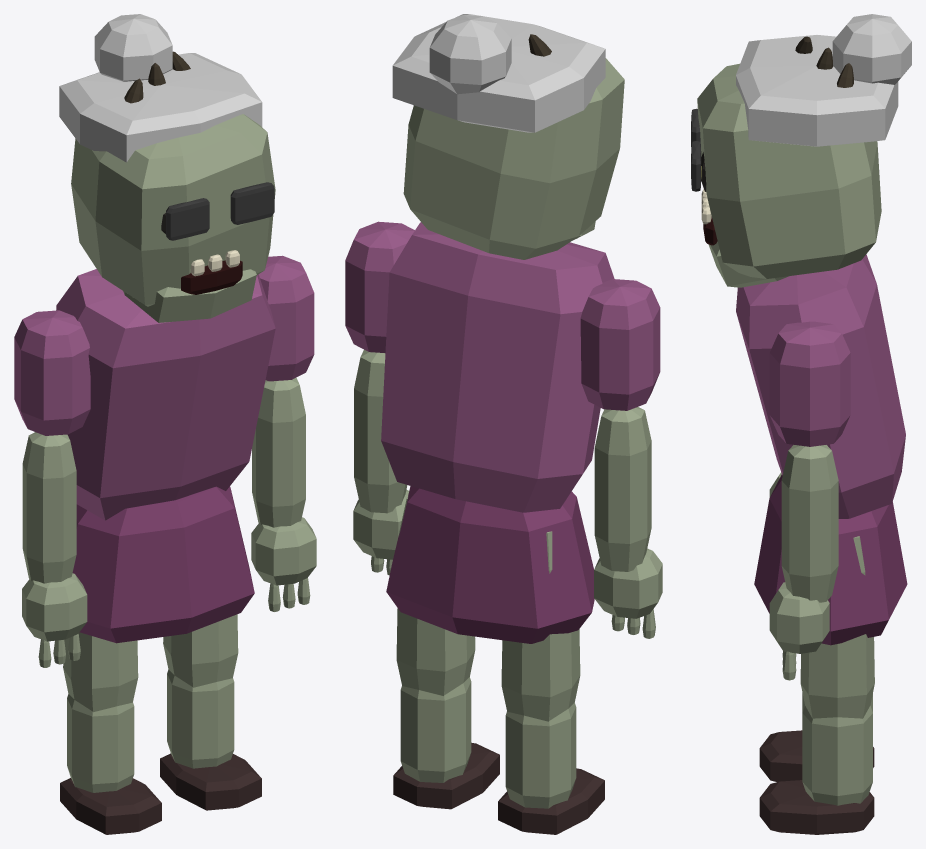
File: mon-walker-3.glb
3 views of the same model, side by side, from view 1: azimuth 30°, elevation 25°; view 2: azimuth 150°, elevation 25°; view 3: azimuth 270°, elevation 25° (orthographic). The views are drawn at different scales.
Parts seen in each view (by area): view 1: torso, head, arm-right, arm-left, leg-right, leg-left; view 2: torso, head, arm-right, leg-right, leg-left, arm-left; view 3: head, torso, arm-left, leg-left, leg-right.
Part boxes in pixels (<box>): torso: <box>56,269,275,643</box>; head: <box>59,14,275,322</box>; arm-right: <box>14,310,90,667</box>; arm-left: <box>251,255,316,611</box>; leg-right: <box>60,632,161,834</box>; leg-left: <box>160,614,261,810</box>; torso: <box>381,222,614,643</box>; head: <box>392,14,624,259</box>; arm-right: <box>580,279,662,638</box>; leg-right: <box>498,531,604,834</box>; leg-left: <box>393,496,499,809</box>; arm-left: <box>345,221,414,575</box>; head: <box>691,14,911,287</box>; torso: <box>736,254,907,645</box>; arm-left: <box>769,321,850,680</box>; leg-left: <box>759,536,874,834</box>; leg-right: <box>759,693,874,781</box>.
Bounding box in the file's own units: 0.9745 × 2.49 × 0.6395.
